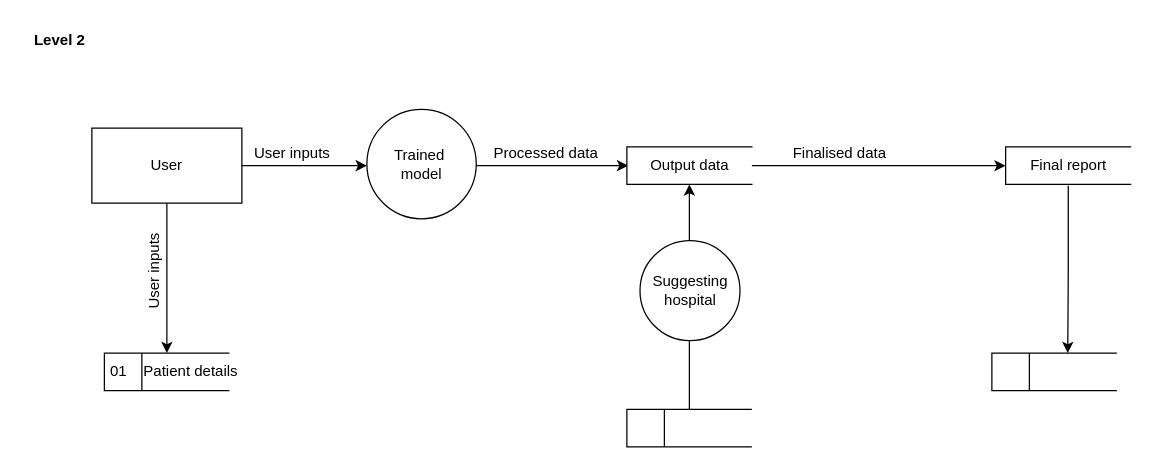
This 1153x469 diagram has some shape labels left out. The box of each missing label's shape, as (x1, y1, x2, y2) in pixels:
02 Hospital details: (626, 408, 752, 447)
03 Patient Report: (991, 352, 1117, 391)
